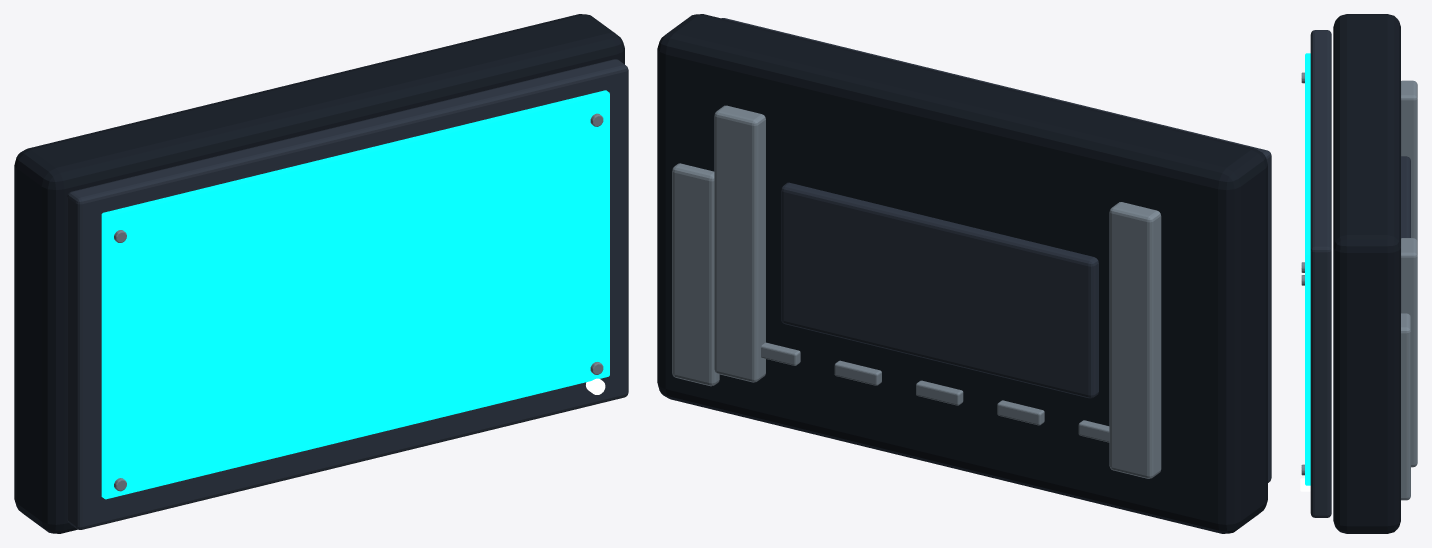
Rendered from prop_wall_screen_home_a_v01.glb.
3 renders of one model, left to right at view 1: azimuth 30°, elevation 25°; view 2: azimuth 150°, elevation 25°; view 3: azimuth 270°, elevation 25°, orthographic. The views are drawn at different scales.
Parts seen in each view (by area): view 1: component__screen_panel__screen_panel, component__rear_housing__rear_housing, component__protective_bezel__protective_bezel; view 2: component__rear_housing__rear_housing, component__mounting_bracket__mounting_bracket, component__mounting_bracket__mount_rail.001, component__mounting_bracket__mount_rail, component__cable_or_power_channel__power_channel, component__protective_bezel__protective_bezel, component__rear_housing__vent_slot.002, component__rear_housing__vent_slot.003, component__rear_housing__vent_slot.004; view 3: component__rear_housing__rear_housing, component__protective_bezel__protective_bezel, component__screen_panel__screen_panel, component__mounting_bracket__mount_rail, component__mounting_bracket__mount_rail.001, component__cable_or_power_channel__power_channel, component__mounting_bracket__mounting_bracket.
Boxes of the visible parts, x1=… form: component__screen_panel__screen_panel: x1=101, y1=90, x2=609, y2=499; component__rear_housing__rear_housing: x1=14, y1=14, x2=624, y2=533; component__protective_bezel__protective_bezel: x1=67, y1=59, x2=628, y2=529; component__rear_housing__rear_housing: x1=657, y1=14, x2=1267, y2=533; component__mounting_bracket__mounting_bracket: x1=781, y1=182, x2=1098, y2=398; component__mounting_bracket__mount_rail.001: x1=1109, y1=202, x2=1161, y2=478; component__mounting_bracket__mount_rail: x1=714, y1=105, x2=765, y2=382; component__cable_or_power_channel__power_channel: x1=672, y1=163, x2=719, y2=386; component__protective_bezel__protective_bezel: x1=721, y1=18, x2=1271, y2=482; component__rear_housing__vent_slot.002: x1=997, y1=400, x2=1044, y2=425; component__rear_housing__vent_slot.003: x1=916, y1=380, x2=963, y2=405; component__rear_housing__vent_slot.004: x1=834, y1=360, x2=881, y2=385; component__rear_housing__rear_housing: x1=1333, y1=14, x2=1400, y2=533; component__protective_bezel__protective_bezel: x1=1310, y1=30, x2=1331, y2=517; component__screen_panel__screen_panel: x1=1305, y1=53, x2=1310, y2=485; component__mounting_bracket__mount_rail: x1=1401, y1=238, x2=1417, y2=467; component__mounting_bracket__mount_rail.001: x1=1401, y1=80, x2=1417, y2=241; component__cable_or_power_channel__power_channel: x1=1401, y1=313, x2=1410, y2=500; component__mounting_bracket__mounting_bracket: x1=1401, y1=156, x2=1410, y2=238.
Size of the model in its own units: 1.2 by 0.72 by 0.2568.
